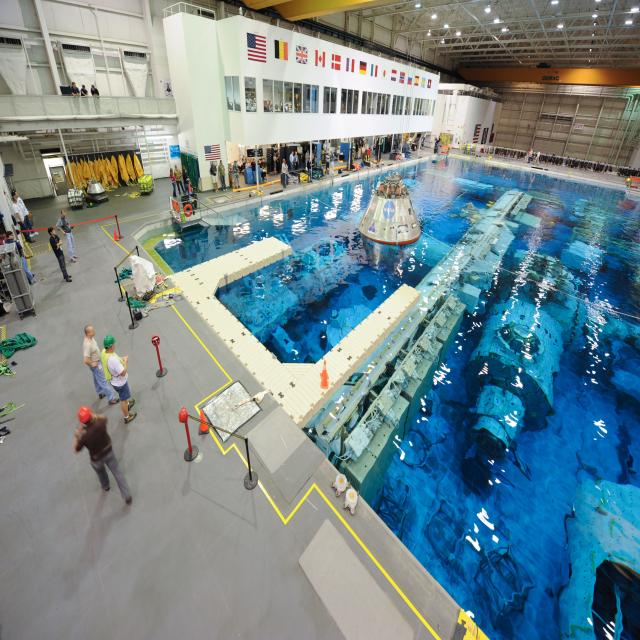Orange_colored_life-ring: (183, 202, 193, 218)
Orion_capsule_mockup_(WEST)_located_on_far_end_of_pool: (357, 170, 421, 248)
